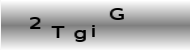2: (28, 16, 41, 29)
G: (109, 7, 124, 20)
T: (50, 25, 65, 38)
g: (73, 29, 86, 42)
i: (90, 24, 95, 37)
